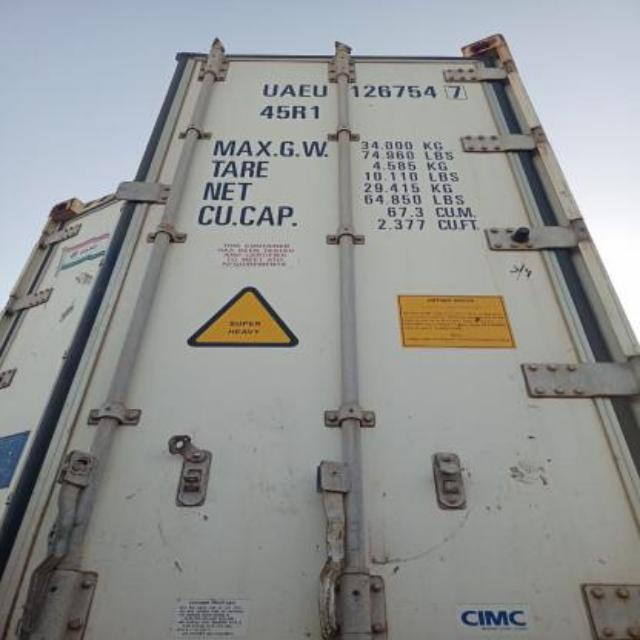1: (350, 78, 360, 100)
2: (364, 80, 378, 100)
4: (420, 77, 440, 103)
5: (408, 77, 422, 101)
6: (376, 78, 392, 99)
7: (442, 80, 466, 98), (390, 78, 406, 102)
A: (279, 75, 297, 101)
E: (295, 76, 311, 100)
U: (258, 76, 278, 100), (312, 78, 328, 102)
